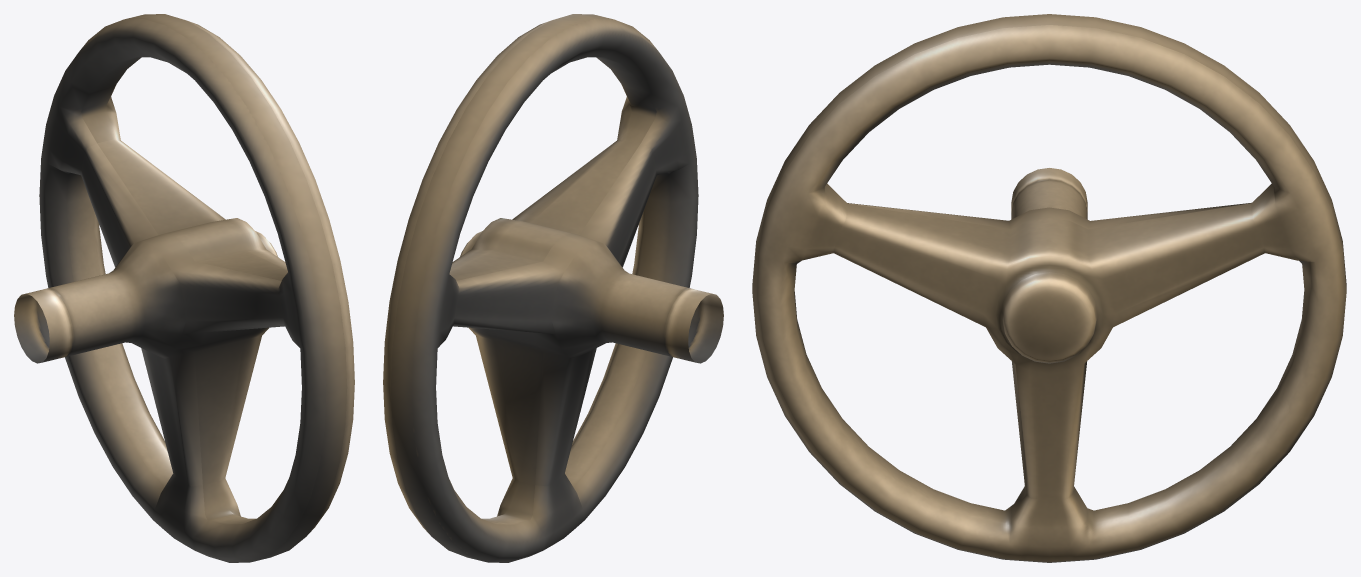
File: SK_Vehicles_Saxo_Steering_Wheel.FBX
3 views of the same model, side by side, from view 1: azimuth 30°, elevation 25°; view 2: azimuth 150°, elevation 25°; view 3: azimuth 270°, elevation 25° (orthographic). The views are drawn at different scales.
Parts seen in each view (by area): view 1: SK_Vehicles_Saxo_Steering_Wheel; view 2: SK_Vehicles_Saxo_Steering_Wheel; view 3: SK_Vehicles_Saxo_Steering_Wheel.
Boxes of the visible parts, box(x1,y1,x2,y2) form: SK_Vehicles_Saxo_Steering_Wheel: box(14, 14, 354, 562); SK_Vehicles_Saxo_Steering_Wheel: box(383, 14, 723, 562); SK_Vehicles_Saxo_Steering_Wheel: box(752, 14, 1346, 562).
Size of the model in its own units: 22.73 by 47.1 by 47.1.
Materials: 1 (1 with a texture image).
